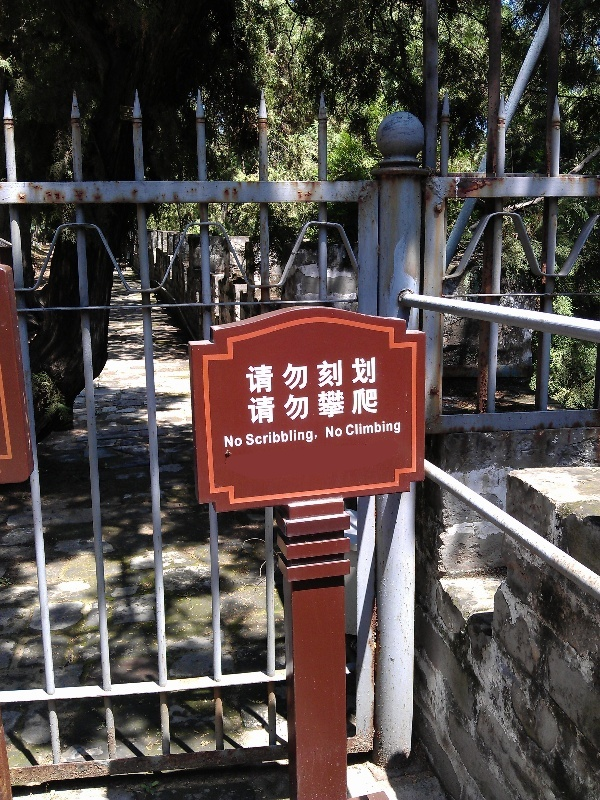text: (257, 355, 272, 396), (273, 355, 288, 396), (289, 355, 304, 396), (305, 355, 320, 396), (321, 355, 336, 396), (337, 355, 352, 396), (353, 355, 368, 396), (257, 387, 272, 426), (273, 387, 288, 426), (289, 387, 304, 426), (305, 387, 320, 426), (321, 387, 336, 426), (337, 387, 352, 426), (353, 387, 368, 426), (245, 355, 256, 396), (369, 387, 380, 426), (369, 355, 379, 396), (246, 387, 256, 426), (257, 426, 272, 450), (273, 426, 288, 450), (289, 426, 304, 450), (305, 426, 319, 450), (353, 420, 368, 438), (369, 420, 384, 438), (385, 420, 400, 438), (245, 426, 256, 450), (225, 434, 240, 449), (325, 425, 336, 439), (344, 420, 352, 438), (337, 425, 344, 439), (241, 434, 244, 449), (401, 420, 402, 438), (223, 434, 224, 449)
